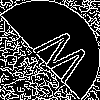W: (25, 25, 93, 91)
